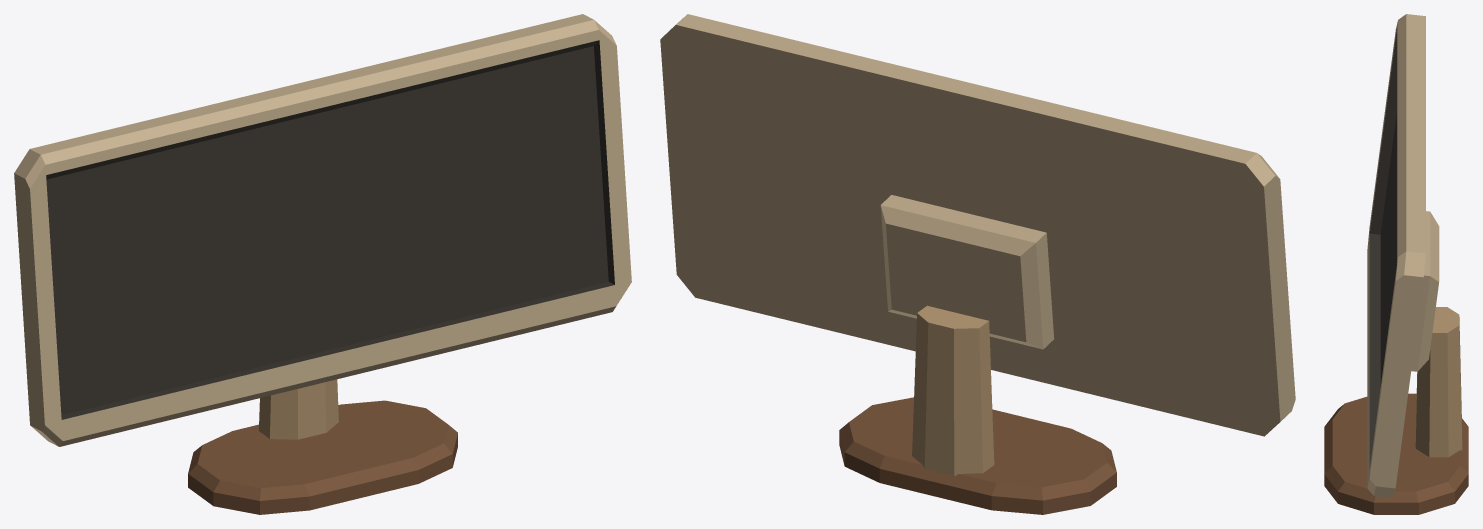
File: monitor.glb
The picture shows the model from 3 angles, left to right: view 1: azimuth 30°, elevation 25°; view 2: azimuth 150°, elevation 25°; view 3: azimuth 270°, elevation 25°; orthographic projection. The views are drawn at different scales.
Parts seen in each view (by area): view 1: panel, object 1; view 2: panel, object 1; view 3: panel, object 1.
Part boxes in pixels (x1,y1,x2,y2): panel: (14,14,631,446); object 1: (188,379,457,514); panel: (660,14,1295,436); object 1: (839,305,1116,514); panel: (1367,14,1439,497); object 1: (1324,307,1468,514).
Bounding box in the file's own units: 0.7 × 0.4282 × 0.17.
